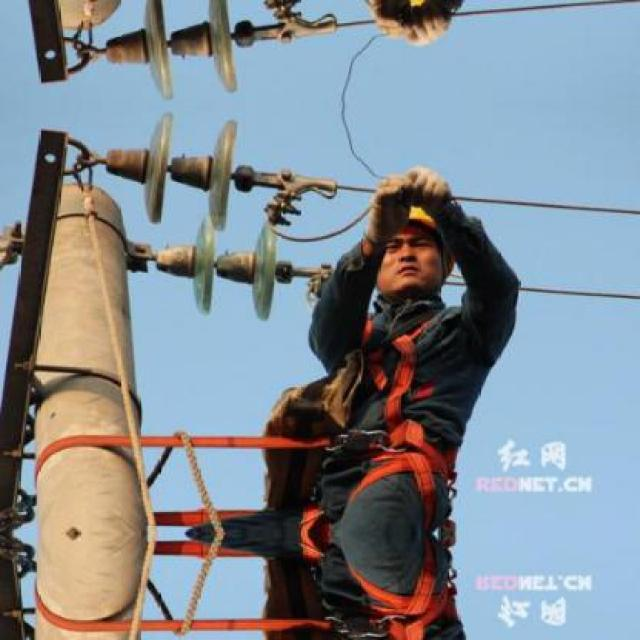helmet: (374, 196, 454, 302)
